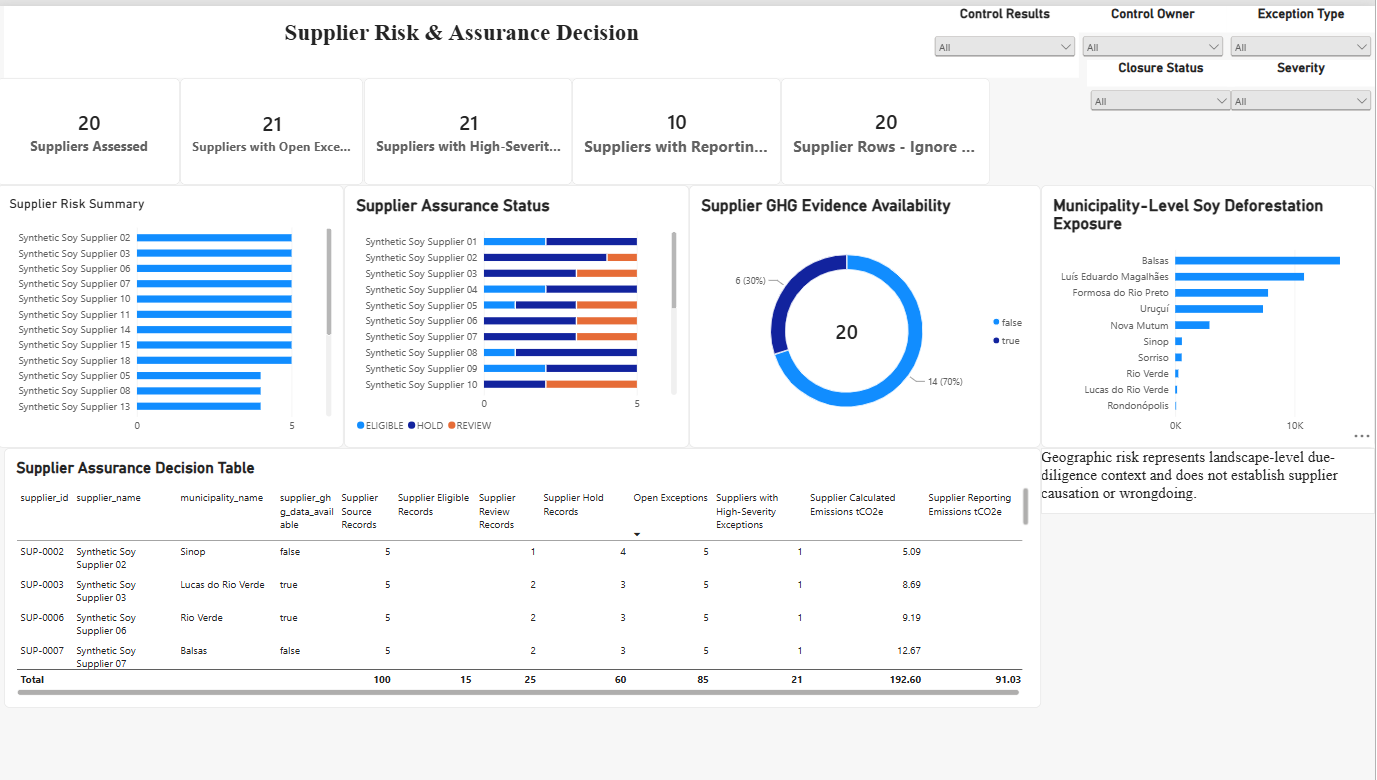

The page's visual inventory and layout, read from the dashboard file:
{"tool":"powerbi","page":{"name":"Supplier Risk & Assurance Decision","canvas":[1920,1080],"ordinal":2},"visuals":[{"type":"textbox","box":[9.8,0,1291.6,100.3],"z":0},{"type":"cardVisual","fields":{"Data":["fact_reporting_transaction.Suppliers Assessed"]},"box":[0,100,255.5,149.2],"z":1000},{"type":"cardVisual","fields":{"Data":["fact_reporting_transaction.Suppliers with Open Exceptions"]},"box":[255.5,100,255.5,149.2],"z":2000},{"type":"cardVisual","fields":{"Data":["fact_reporting_transaction.Suppliers with High-Severity Exceptions"]},"box":[510.9,100,290.4,149.2],"z":3000},{"type":"cardVisual","fields":{"Data":["fact_reporting_transaction.Suppliers with Reporting-Eligible Records"]},"box":[801.2,100.3,291.2,149.1],"z":4000},{"type":"barChart","title":"Supplier Assurance Status","fields":{"Category":["dim_supplier.supplier_name"],"Series":["fact_reporting_transaction.governed_reporting_eligibility"],"Y":["fact_reporting_transaction.Source Records"]},"box":[483.5,249.4,480.7,366.4],"z":5000},{"type":"barChart","title":"Supplier Risk Summary","fields":{"Category":["dim_supplier.supplier_name"],"Y":["fact_reporting_transaction.Open Exceptions"]},"box":[0,249.4,483.5,366.4],"z":6000},{"type":"slicer","title":"Exception Type","fields":{"Values":["fact_exception.exception_type"]},"box":[1713.7,0,206.3,100],"z":8000},{"type":"slicer","title":"Severity","fields":{"Values":["fact_exception.severity"]},"box":[1713.7,74.6,206.3,100],"z":9000},{"type":"slicer","title":"Control Owner","fields":{"Values":["fact_exception.control_owner"]},"box":[1507.4,0,206.3,100],"z":10000},{"type":"slicer","title":"Closure Status","fields":{"Values":["fact_exception.closure_status"]},"box":[1518.5,74.6,206.3,100],"z":11000},{"type":"slicer","title":"Control Results ","fields":{"Values":["fact_control_result.control_result"]},"box":[1301.2,0,206.3,100],"z":12000},{"type":"donutChart","title":"Supplier GHG Evidence Availability","fields":{"Category":["dim_supplier.supplier_ghg_data_available"],"Y":["CountNonNull(dim_supplier.supplier_id)"]},"box":[964.2,249.4,490.4,366.4],"z":13000},{"type":"clusteredBarChart","title":"Municipality-Level Soy Deforestation Exposure","fields":{"Category":["dim_municipality.municipality_name"],"Y":["Max(dim_municipality.soy_deforestation_5yr_exposure)"]},"box":[1454.6,249.4,465.4,366.4],"z":14000},{"type":"textbox","box":[1454.6,615.8,465.4,92],"z":15001},{"type":"tableEx","title":"Supplier Assurance Decision Table","fields":{"Values":["dim_supplier.supplier_id","dim_supplier.supplier_name","dim_supplier.municipality_name","dim_supplier.supplier_ghg_data_available","dim_supplier.Supplier Source Records","dim_supplier.Supplier Eligible Records","dim_supplier.Supplier Review Records","dim_supplier.Supplier Hold Records","fact_reporting_transaction.Open Exceptions","fact_reporting_transaction.Suppliers with High-Severity Exceptions","fact_exception.Supplier Calculated Emissions tCO2e","fact_reporting_transaction.Supplier Reporting Emissions tCO2e"]},"box":[9.8,615.8,1444.9,362.3],"z":15002},{"type":"cardVisual","fields":{"Data":["fact_reporting_transaction.Supplier Rows - Ignore Filters"]},"box":[1092.4,100.3,291.2,149.1],"z":15003}]}

Visuals, with their boxes in screenshot pixels (x1, y1, x2, y2), scaled from the page's 1920x1080 canvas onto the 1377x780 screenshot:
textbox: x1=7, y1=0, x2=933, y2=72
cardVisual - fact_reporting_transaction.Suppliers Assessed: x1=0, y1=72, x2=183, y2=180
cardVisual - fact_reporting_transaction.Suppliers with Open Exceptions: x1=183, y1=72, x2=366, y2=180
cardVisual - fact_reporting_transaction.Suppliers with High-Severity Exceptions: x1=366, y1=72, x2=575, y2=180
cardVisual - fact_reporting_transaction.Suppliers with Reporting-Eligible Records: x1=575, y1=72, x2=783, y2=180
"Supplier Assurance Status" barChart: x1=347, y1=180, x2=692, y2=445
"Supplier Risk Summary" barChart: x1=0, y1=180, x2=347, y2=445
"Exception Type" slicer: x1=1229, y1=0, x2=1376, y2=72
"Severity" slicer: x1=1229, y1=54, x2=1376, y2=126
"Control Owner" slicer: x1=1081, y1=0, x2=1229, y2=72
"Closure Status" slicer: x1=1089, y1=54, x2=1237, y2=126
"Control Results " slicer: x1=933, y1=0, x2=1081, y2=72
"Supplier GHG Evidence Availability" donutChart: x1=692, y1=180, x2=1043, y2=445
"Municipality-Level Soy Deforestation Exposure" clusteredBarChart: x1=1043, y1=180, x2=1376, y2=445
textbox: x1=1043, y1=445, x2=1376, y2=511
"Supplier Assurance Decision Table" tableEx: x1=7, y1=445, x2=1043, y2=706
cardVisual - fact_reporting_transaction.Supplier Rows - Ignore Filters: x1=783, y1=72, x2=992, y2=180
